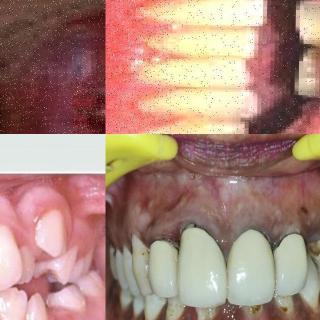Gum Swelling: (124, 200, 308, 262), (110, 0, 162, 134), (211, 294, 312, 320)
calculus: (180, 216, 218, 273), (136, 242, 154, 292), (156, 232, 180, 266), (143, 0, 180, 22), (150, 32, 176, 59), (136, 126, 176, 134)
cavities: (307, 234, 320, 264), (108, 246, 120, 264)
maligned: (30, 201, 76, 257), (8, 241, 36, 279)
stains: (277, 293, 297, 320), (166, 297, 186, 320), (244, 304, 263, 320)
